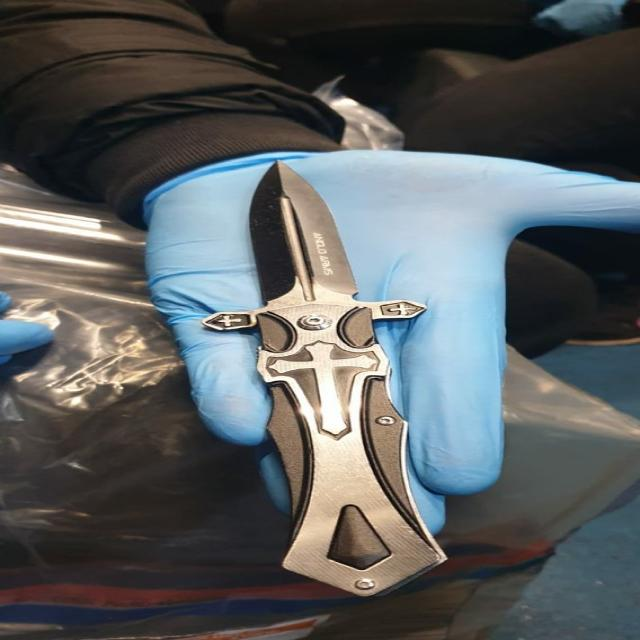Sharp-Object: (218, 155, 460, 598)
